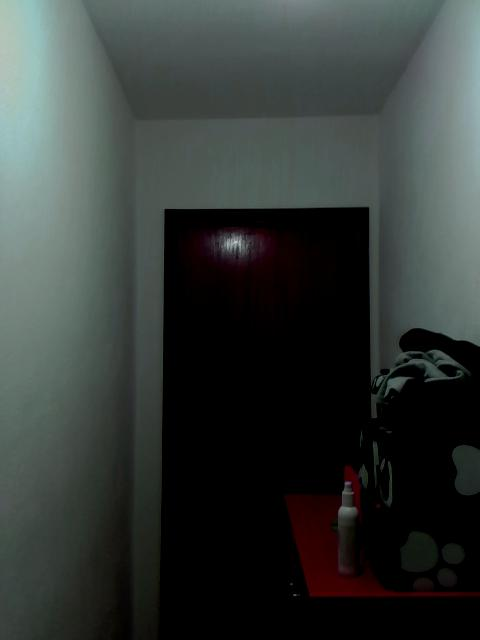closed_door: (158, 206, 369, 638)
